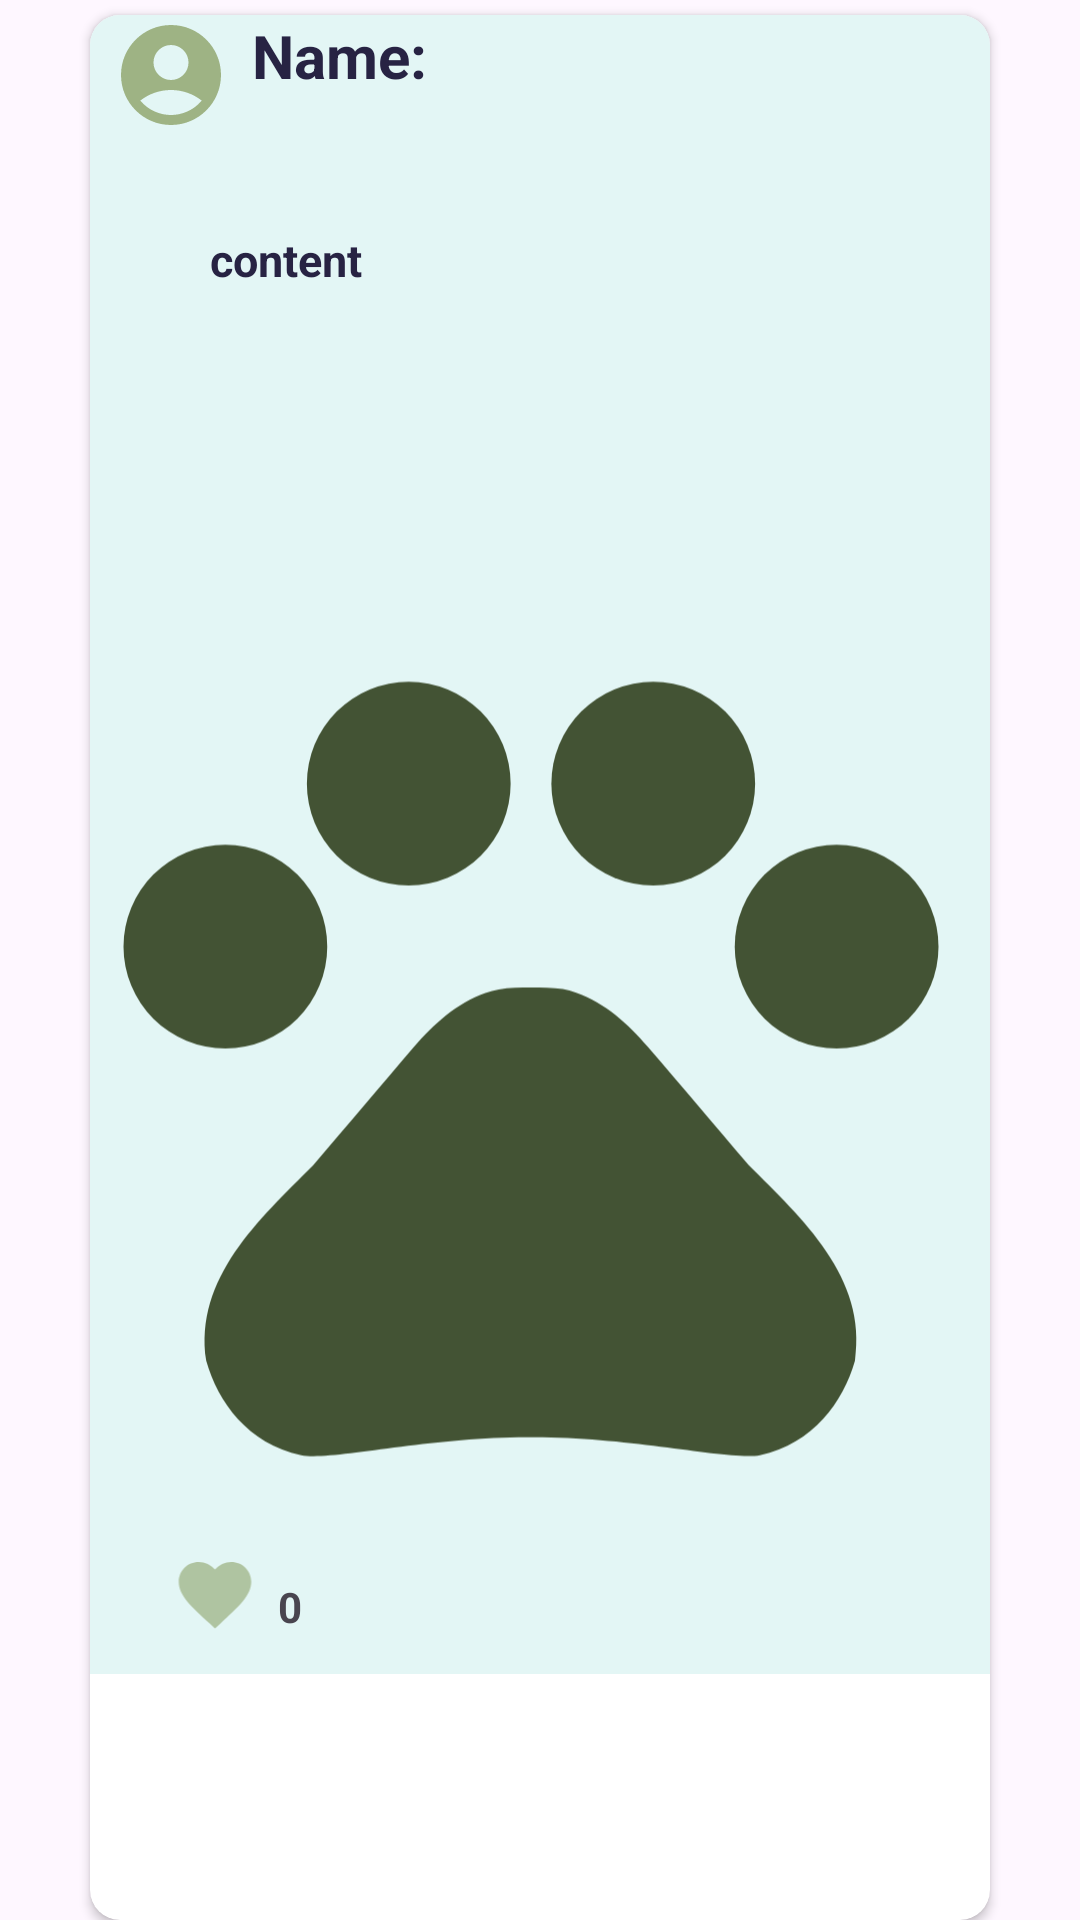

Icons on this 1080x1920 Android screen, each with the point to tap as (x,y):
favorite: (215,1595)
profile users: (155,73)
